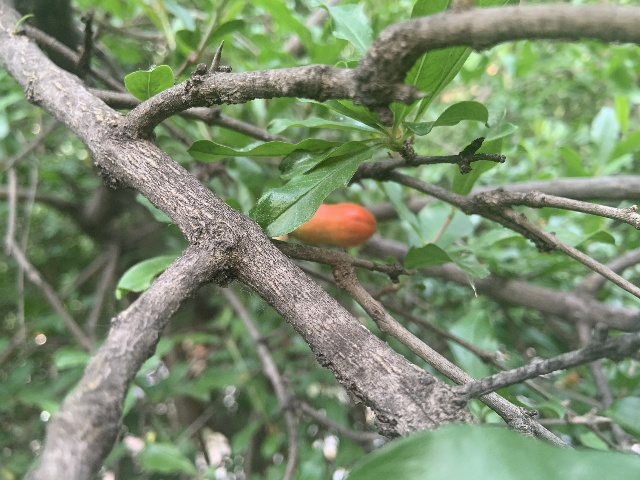bud: (290, 202, 376, 247)
